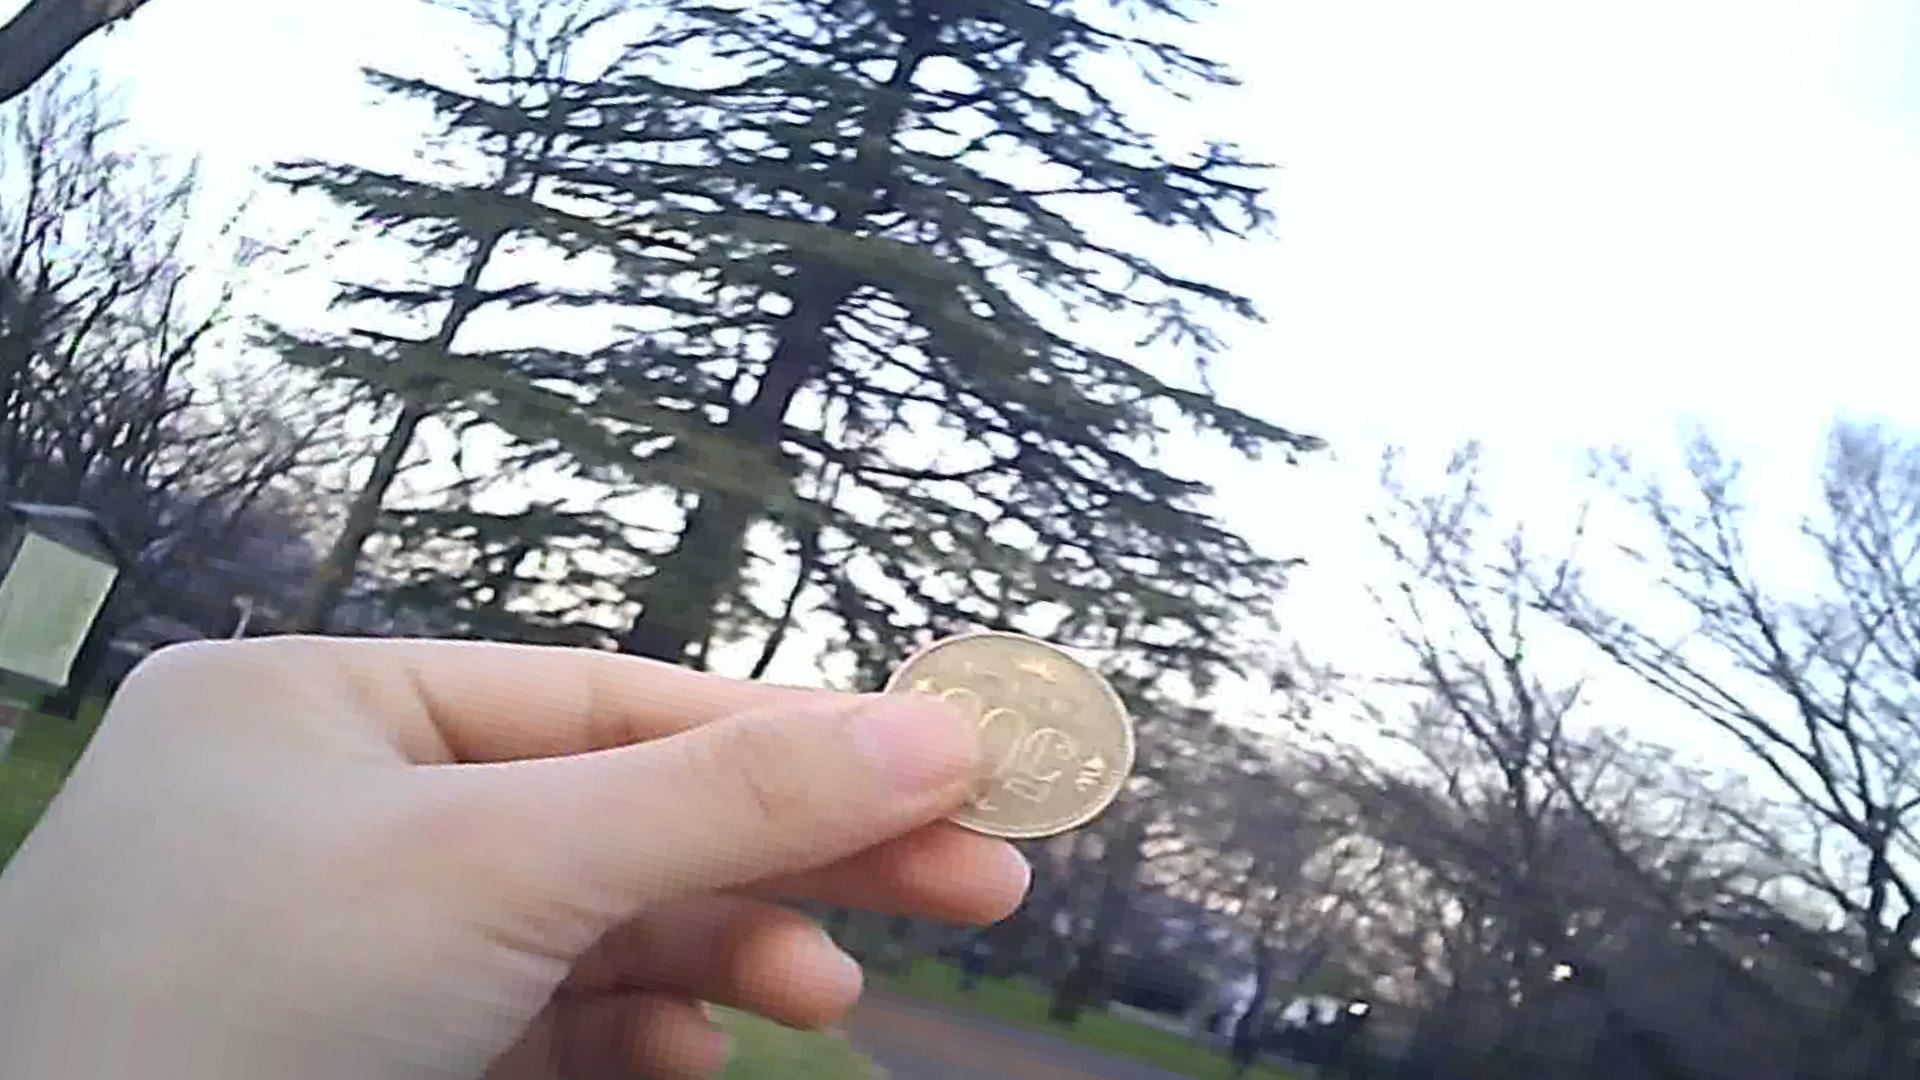500 Yen: (869, 628, 1137, 858)
